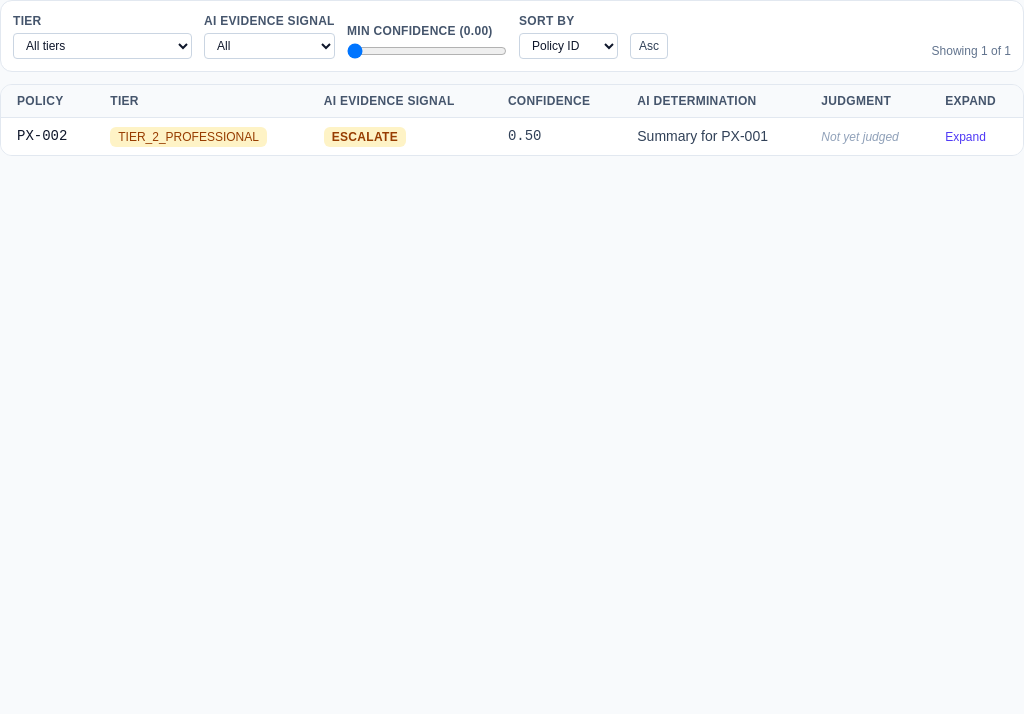
Test: PerPolicyResultsTable tier-aware verdict dropdown › TIER_2 row shows only DEFICIENT + REQUIRES_REVIEW (no ADEQUATE)
The width and height of the screenshot is (1024, 714).
Expected: the row with test id "per-policy-row" is shown, [1, 118, 1023, 155]
Click the button with test id "per-policy-expand-toggle" at (965,137), box [945, 129, 986, 145]
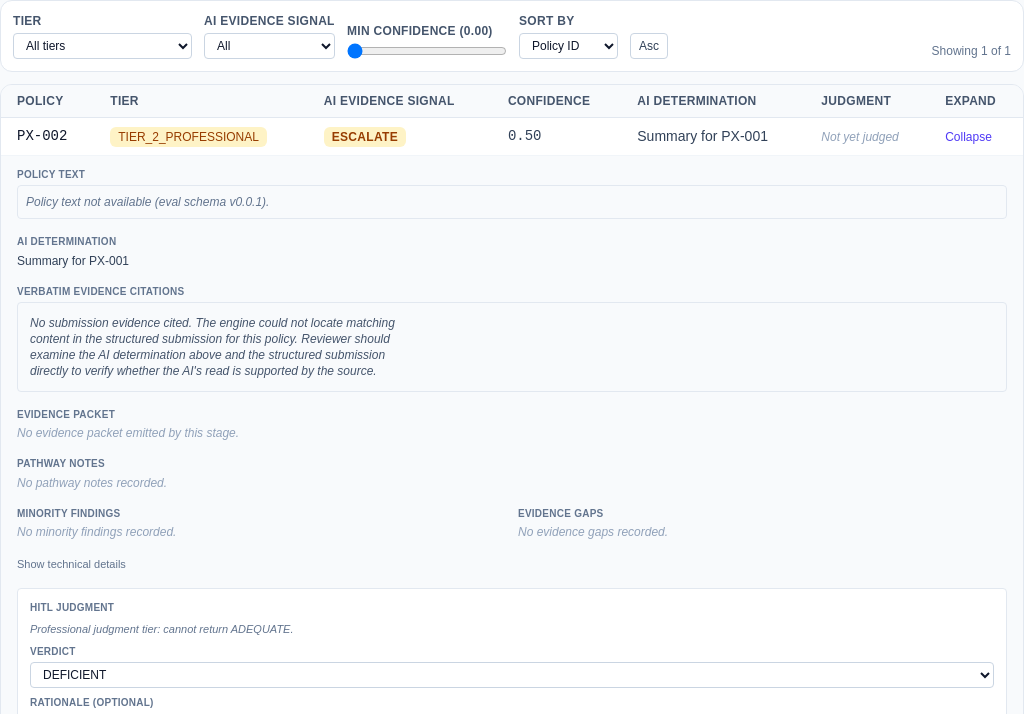
Expected: the text "ADEQUATE" is not shown
Result: the text with test id "per-policy-tier-help" shows "cannot return ADEQUATE" at [30, 623, 294, 635]
